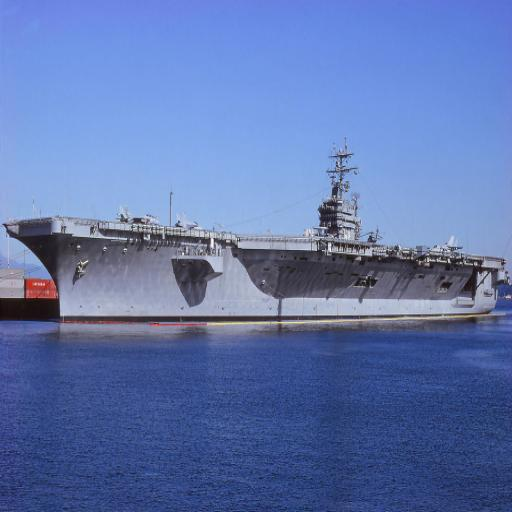Portanaves: (4, 132, 509, 327)
